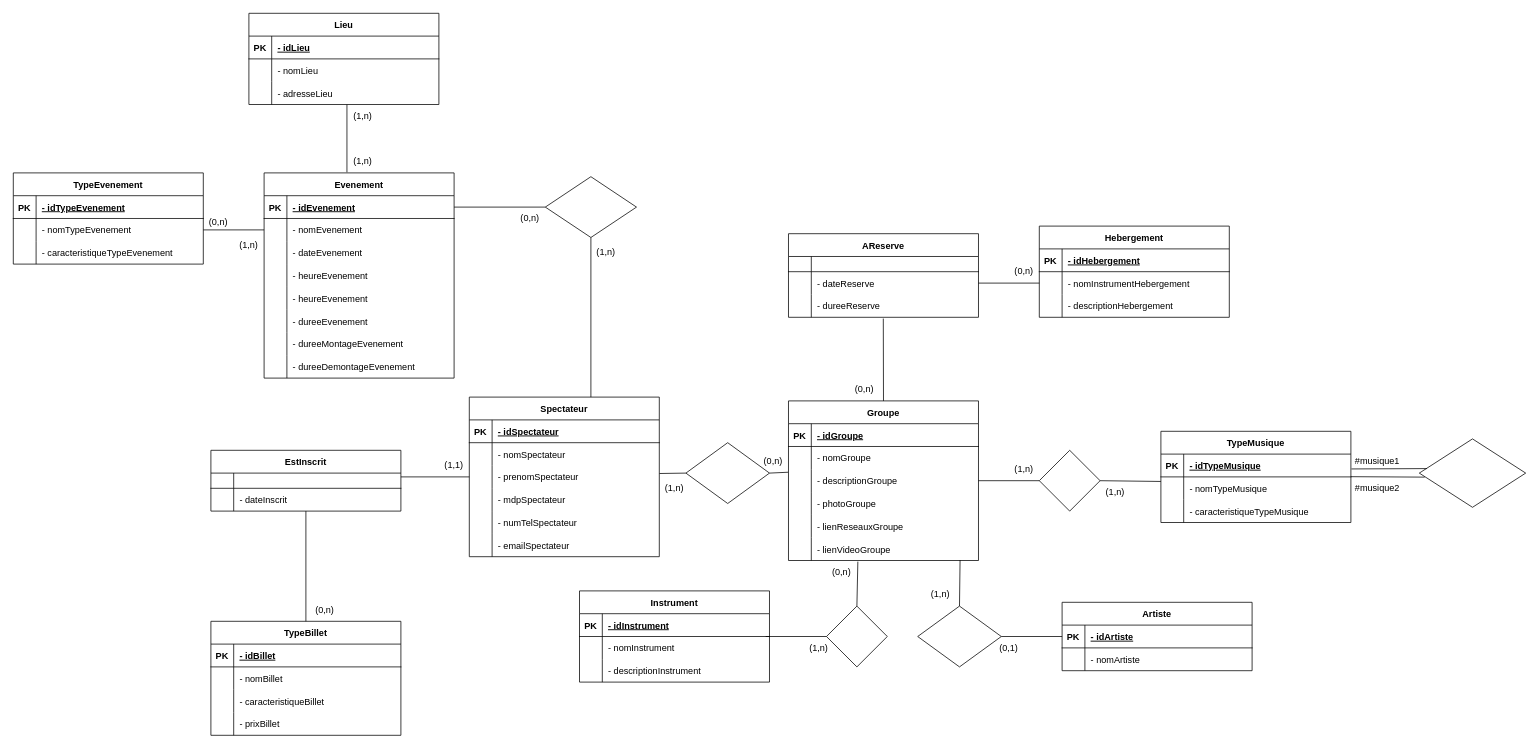
This 1539x749 diagram has some shape labels left out. Here are the shapes that lost their labels. From the top down, the centre of each, then its label:
At (590,207): "Préinscrit".
At (727,473): "EstFavorie".
At (1069,480): "Chante".
At (1472,472): "PaireMusique".
At (856,636): "Joue".
At (959,636): "FaitPartie".
